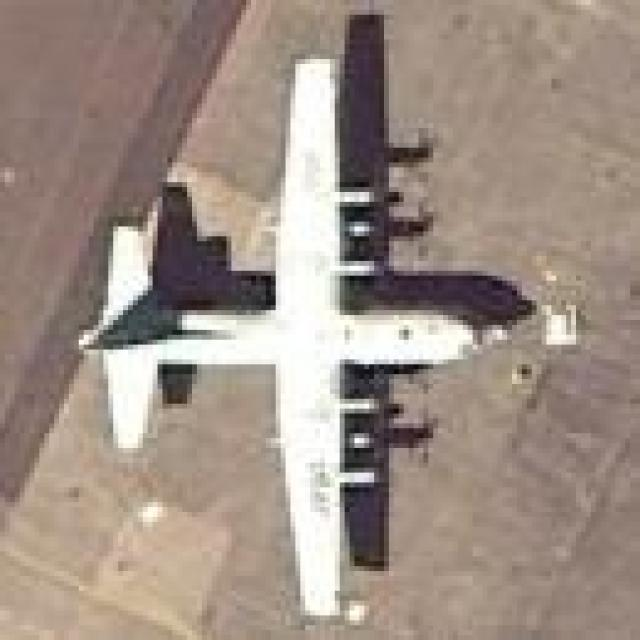C-130_TopDown: (77, 6, 540, 630)
